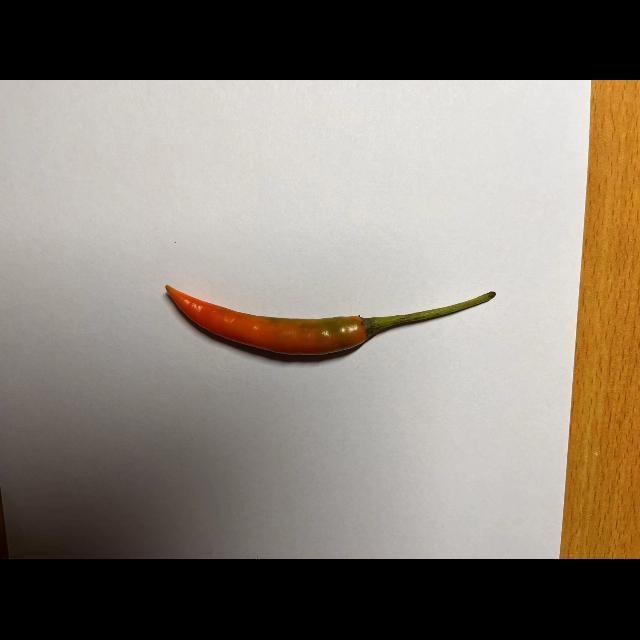chili_pepper: (158, 279, 500, 366)
